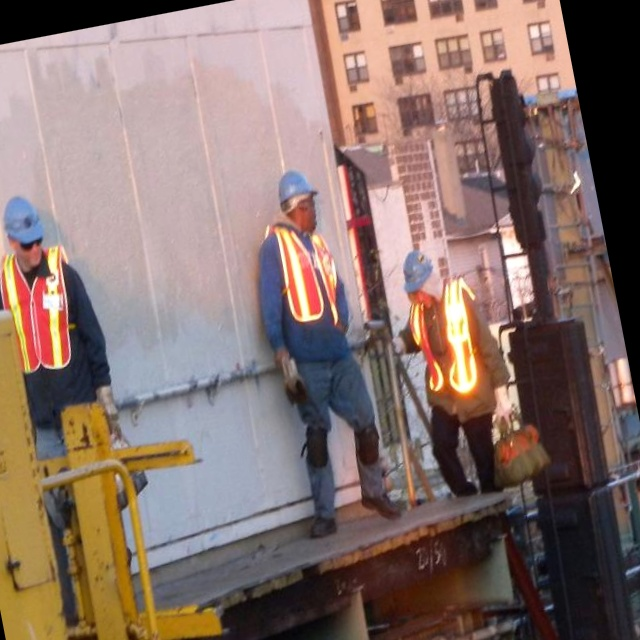Con_Casco: (0, 191, 46, 268), (274, 166, 321, 229)
Con_Chaleco: (0, 244, 89, 387), (267, 221, 349, 345), (405, 292, 487, 406)
